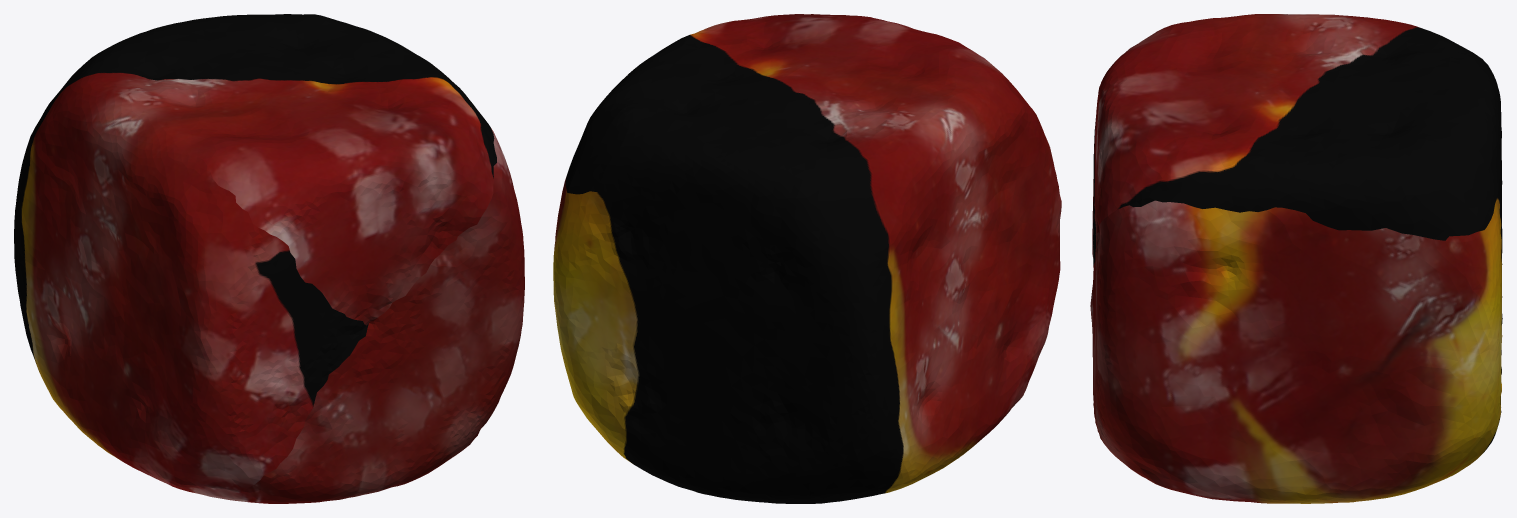
The picture shows the model from 3 angles, left to right: view 1: azimuth 30°, elevation 25°; view 2: azimuth 150°, elevation 25°; view 3: azimuth 270°, elevation 25°; orthographic projection.
Parts seen in each view (by area): view 1: node; view 2: node; view 3: node.
Boxes of the visible parts, x1,y1,x2,y2 form: node: (14, 14, 524, 503); node: (553, 14, 1061, 503); node: (1090, 14, 1502, 503).
Size of the model in its own units: 0.0172 by 0.0171 by 0.0176.
